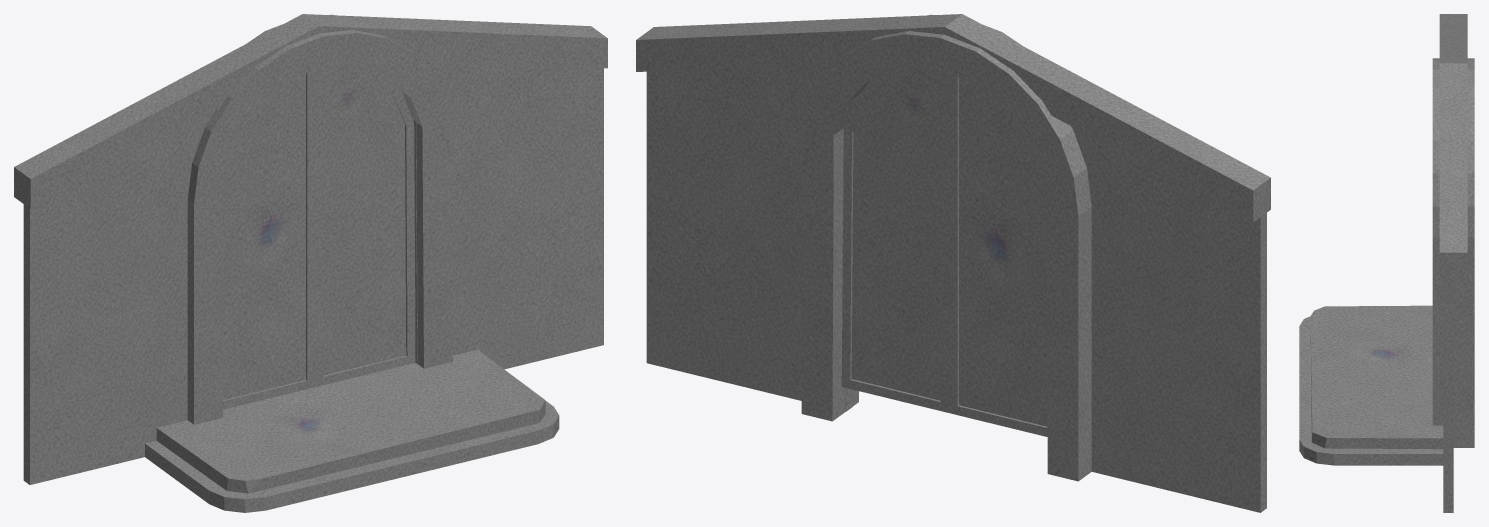
The model's file is 28a45bc4-0c3c-4ded-91a7-65468a2d04c4.glb.
3 views of the same model, side by side, from view 1: azimuth 30°, elevation 25°; view 2: azimuth 150°, elevation 25°; view 3: azimuth 270°, elevation 25° (orthographic). The views are drawn at different scales.
Parts seen in each view (by area): view 1: AshLargeDoorway.002; view 2: AshLargeDoorway.002; view 3: AshLargeDoorway.002.
Part boxes in pixels (<box>): AshLargeDoorway.002: <box>14,14,607,512</box>; AshLargeDoorway.002: <box>636,14,1270,512</box>; AshLargeDoorway.002: <box>1299,14,1474,512</box>.
Size of what is drawn, in the model's own units: 5.74 by 3.71 by 1.78.
Materials: 1 (1 with a texture image).
